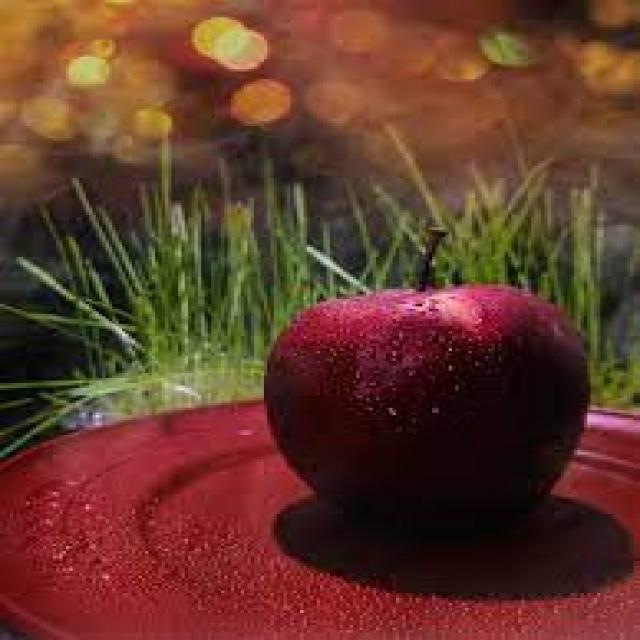Fresh Apple: (264, 285, 594, 543)
